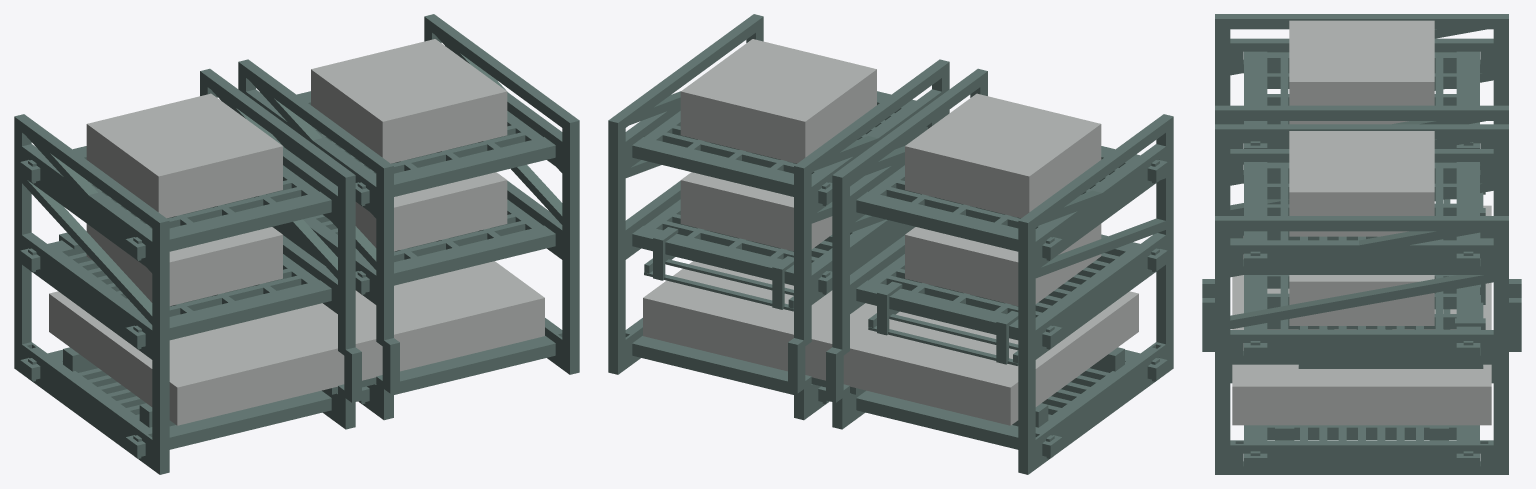
File: routed-inner-frames.glb
3 views of the same model, side by side, from view 1: azimuth 30°, elevation 25°; view 2: azimuth 150°, elevation 25°; view 3: azimuth 270°, elevation 25° (orthographic).
Visible parts, largest first — view 1: CRS812 nominal chassis 443 x 268 x 44, frame--247, Spark (135, 252), Spark (-135, 252), frame-frame-inner-routed-23, frame-247, frame-frame-inner-routed--23, Spark (-135, 150), tray--135-150, Spark (135, 150), tray--135-252, tray--135-24 (+3 smaller); view 2: CRS812 nominal chassis 443 x 268 x 44, frame--247, Spark (135, 252), Spark (-135, 252), frame-frame-inner-routed-23, frame-247, frame-frame-inner-routed--23, Spark (-135, 150), tray--135-150, tray--135-252, Spark (135, 150), tray--135-24 (+5 smaller); view 3: frame-247, CRS812 nominal chassis 443 x 268 x 44, Spark (135, 252), Spark (-135, 252), frame-frame-inner-routed-23, frame--247, frame-frame-inner-routed--23, tray-135-252, Spark (135, 150), tray--135-252, tray-135-150, tray-135-24 (+1 smaller).
Boxes of the visible parts, x1,y1,x2,y2 form: CRS812 nominal chassis 443 x 268 x 44: (49, 261, 544, 425); frame--247: (14, 114, 169, 474); Spark (135, 252): (311, 39, 507, 163); Spark (-135, 252): (86, 93, 282, 218); frame-frame-inner-routed-23: (238, 59, 399, 420); frame-247: (424, 14, 579, 374); frame-frame-inner-routed--23: (200, 68, 361, 429); Spark (-135, 150): (86, 224, 282, 305); tray--135-150: (20, 240, 331, 348); Spark (135, 150): (355, 172, 507, 251); tray--135-252: (20, 146, 331, 259); tray--135-24: (20, 347, 331, 457); CRS812 nominal chassis 443 x 268 x 44: (643, 261, 1138, 425); frame--247: (1018, 114, 1173, 474); Spark (135, 252): (680, 39, 876, 163); Spark (-135, 252): (905, 93, 1101, 218); frame-frame-inner-routed-23: (788, 59, 949, 420); frame-247: (608, 14, 763, 374); frame-frame-inner-routed--23: (826, 68, 987, 429); Spark (-135, 150): (905, 224, 1101, 305); tray--135-150: (856, 234, 1167, 348); tray--135-252: (856, 146, 1167, 259); Spark (135, 150): (680, 172, 832, 251); tray--135-24: (856, 347, 1167, 457); frame-247: (1215, 216, 1508, 474); CRS812 nominal chassis 443 x 268 x 44: (1232, 205, 1491, 425); Spark (135, 252): (1289, 131, 1434, 236); Spark (-135, 252): (1289, 20, 1434, 124); frame-frame-inner-routed-23: (1202, 124, 1521, 383); frame--247: (1215, 14, 1508, 124); frame-frame-inner-routed--23: (1202, 105, 1521, 297); tray-135-252: (1244, 162, 1479, 270); Spark (135, 150): (1289, 275, 1434, 325); tray--135-252: (1244, 51, 1479, 148); tray-135-150: (1244, 275, 1479, 359); tray-135-24: (1244, 425, 1479, 470).
Bounding box in the file's own units: 0.526 × 0.3025 × 0.33.
